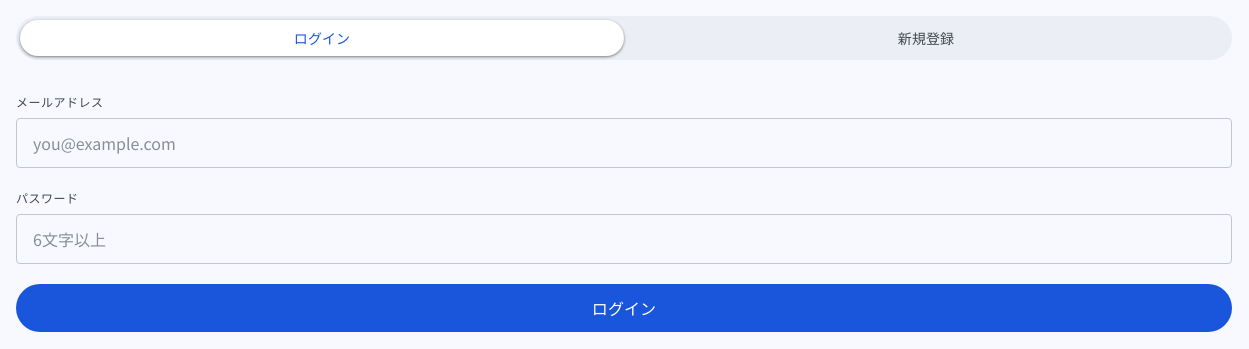
Scenario: LoginForm › 「新規登録」タブをクリックするとサブミットボタンが切り替わる
Click the button "新規登録" at (926, 38), box left=624, top=20, right=1228, bottom=56
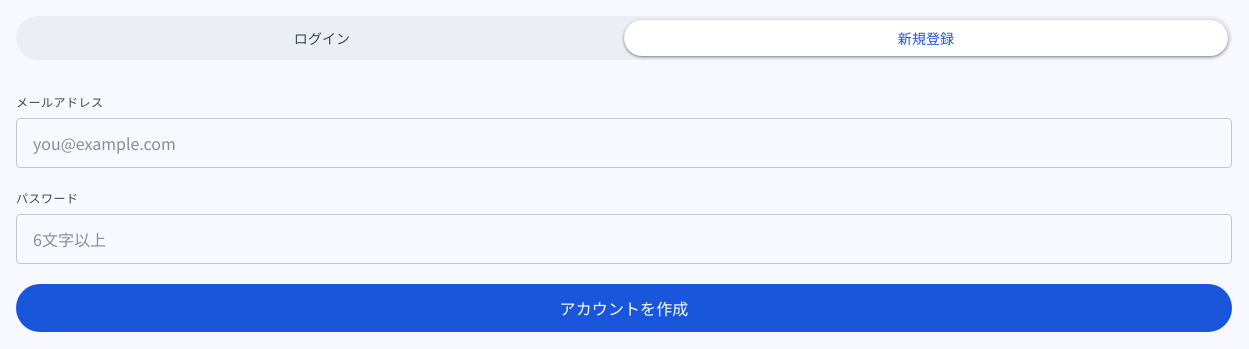
Check: the submit button reads "アカウントを作成", box left=16, top=284, right=1232, bottom=332
